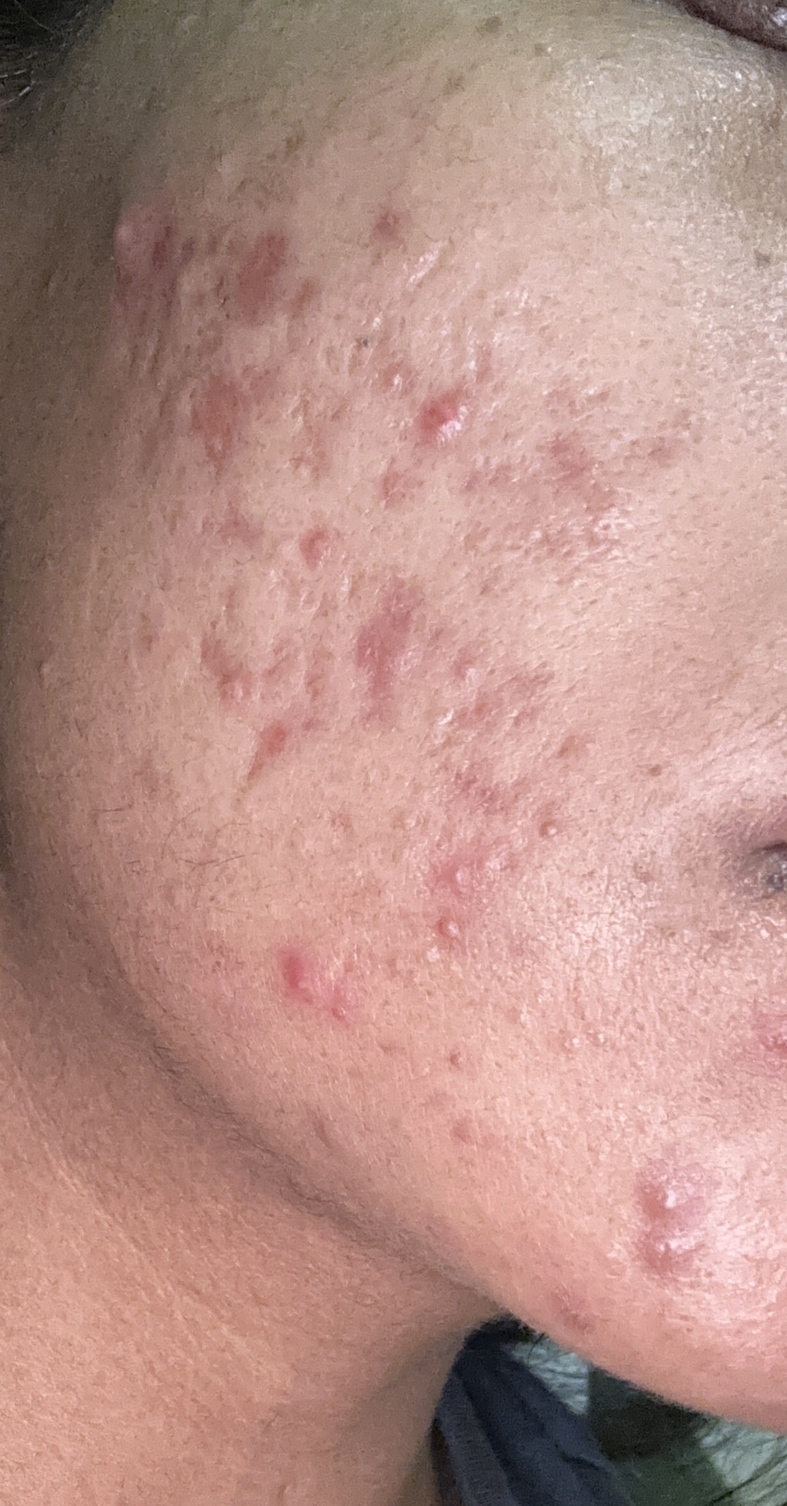nodule: (632, 1167, 721, 1291), (374, 389, 498, 468), (252, 943, 356, 1025), (93, 195, 177, 280)
papule: (222, 217, 324, 364), (349, 603, 456, 737), (428, 856, 525, 980), (190, 357, 269, 473), (202, 635, 269, 732), (284, 498, 349, 590), (550, 456, 622, 538), (528, 794, 572, 883)
